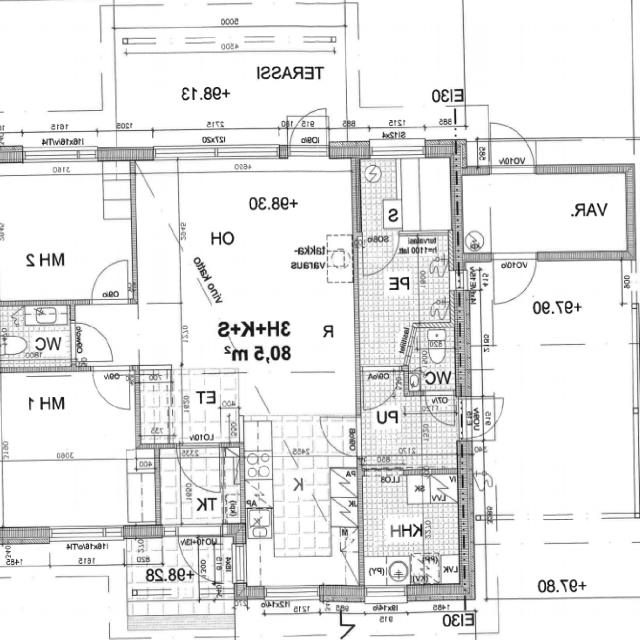door: (180, 524, 222, 587), (490, 121, 534, 175), (493, 251, 536, 304), (454, 399, 510, 439), (177, 443, 220, 493), (290, 102, 327, 158), (361, 366, 401, 412), (315, 417, 358, 456), (93, 367, 130, 410), (94, 261, 131, 304), (362, 230, 398, 274), (71, 323, 112, 361), (426, 391, 454, 425)
